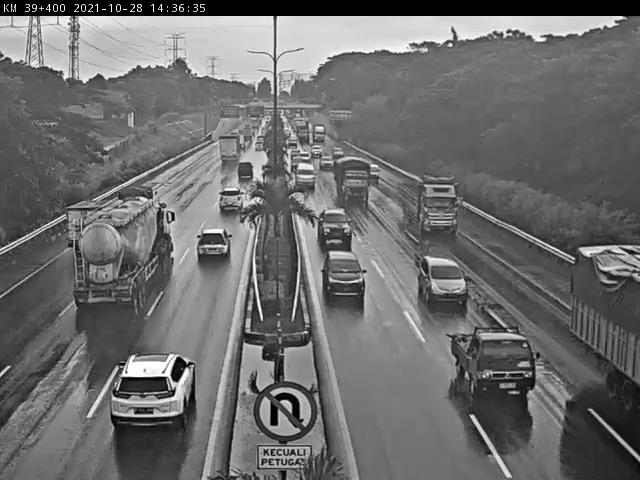big truck: (79, 184, 159, 312), (337, 155, 374, 217), (401, 179, 455, 214), (220, 137, 242, 162)
car: (115, 343, 200, 438), (444, 314, 530, 378), (323, 243, 361, 297), (191, 222, 232, 272), (413, 248, 458, 293), (216, 178, 237, 221), (319, 202, 345, 235), (237, 160, 257, 182), (299, 163, 318, 186)
